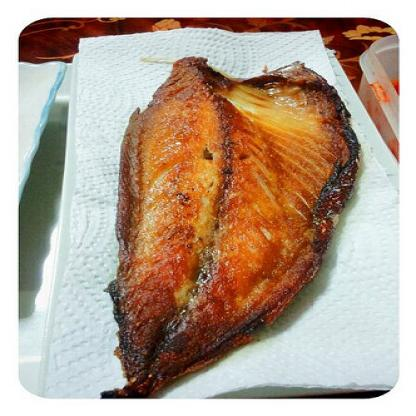Peixe: (66, 44, 363, 394)
